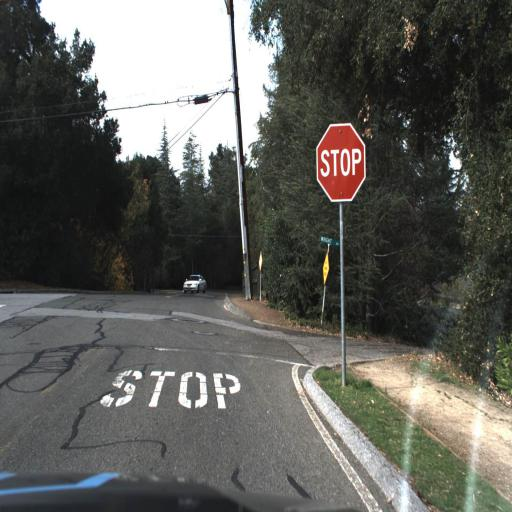car: (181, 274, 208, 294)
